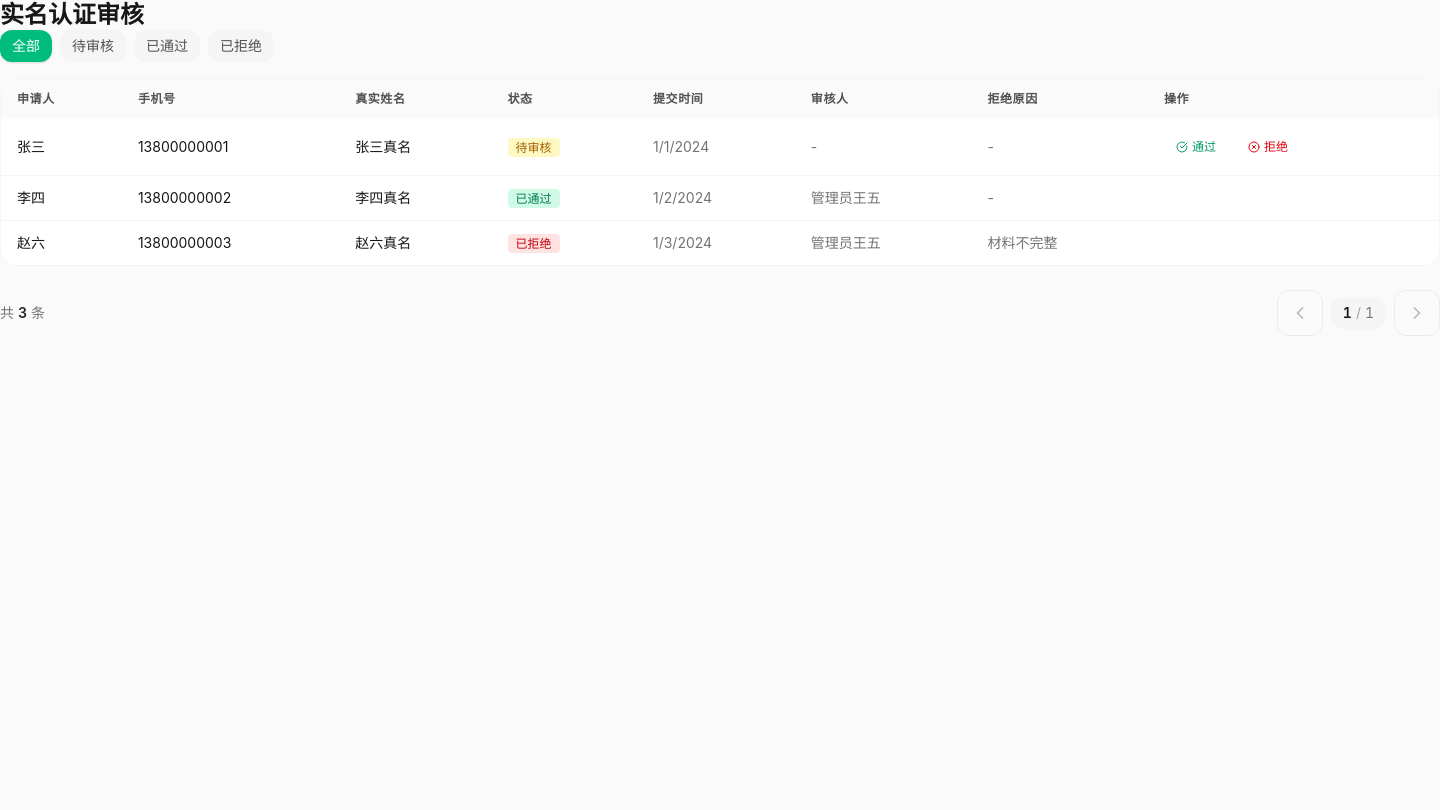
Test: VerificationReview 实名认证审核 › 点击"拒绝"打开弹窗显示拒绝原因输入框
The width and height of the screenshot is (1440, 810).
Click the button "拒绝" at (1268, 147), box 1236,131 -> 1300,163
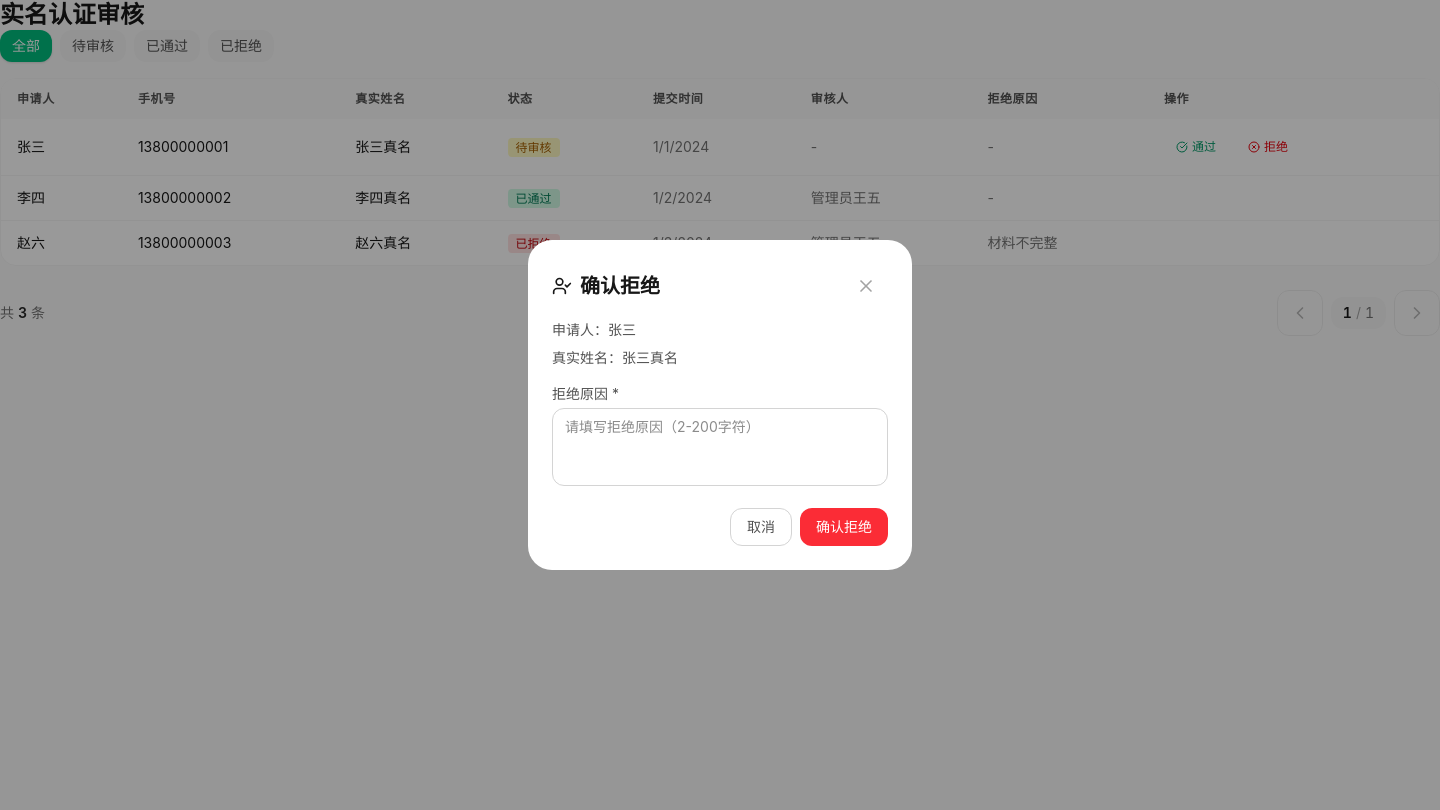
Now the heading "确认拒绝" is shown, box 552,274 -> 660,298
Now the text box with placeholder "请填写拒绝原因（2-200字符）" is shown, box 552,408 -> 888,486
